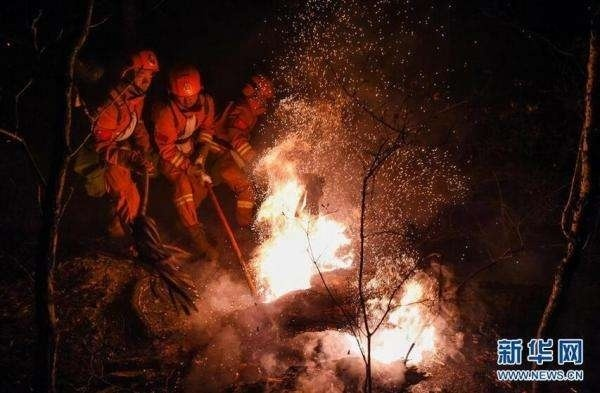fire: (254, 167, 351, 293), (365, 276, 435, 361)
